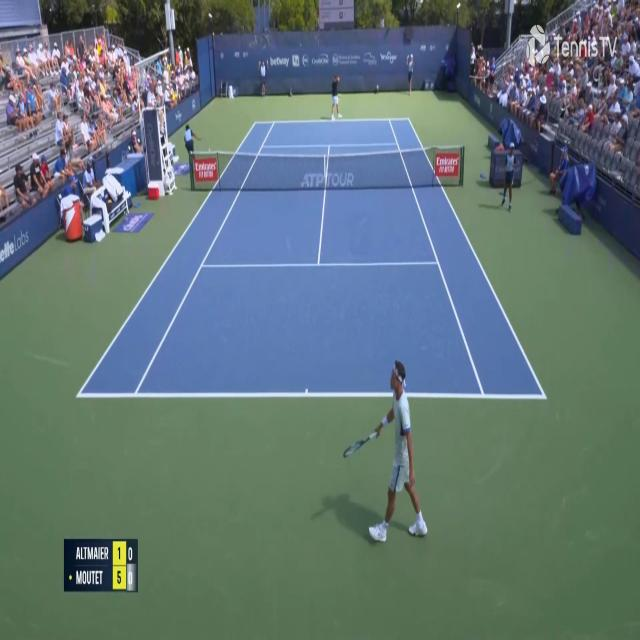tennis-player: (340, 355, 430, 546), (329, 73, 342, 121)
